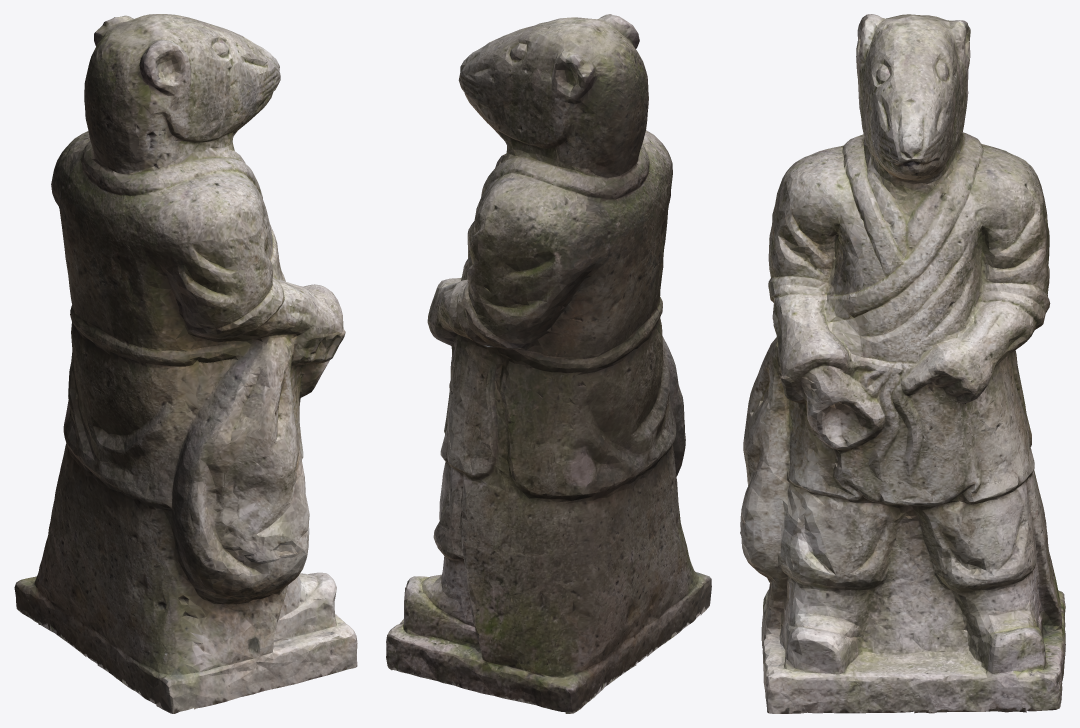
File: stone_mouse.glb
3 views of the same model, side by side, from view 1: azimuth 30°, elevation 25°; view 2: azimuth 150°, elevation 25°; view 3: azimuth 270°, elevation 25° (orthographic).
Visible parts, largest first — view 1: LOD0; view 2: LOD0; view 3: LOD0.
Boxes of the visible parts, left/top/right/bottom form: LOD0: left=14, top=14, right=357, bottom=713; LOD0: left=386, top=14, right=711, bottom=713; LOD0: left=740, top=14, right=1065, bottom=713.
Size of what is drawn, in the model's own units: 9.84 by 29.37 by 13.76.
1 material, 1 textured.
